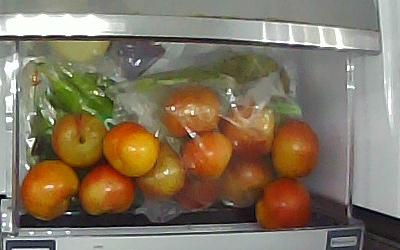prune: (22, 160, 79, 221), (51, 112, 109, 168), (103, 122, 159, 176), (271, 119, 320, 180), (79, 165, 135, 216), (256, 180, 313, 230)
prune_vinyl: (161, 87, 222, 137), (223, 101, 275, 158), (220, 155, 273, 208), (180, 131, 233, 180), (136, 147, 185, 200), (171, 176, 219, 211)
